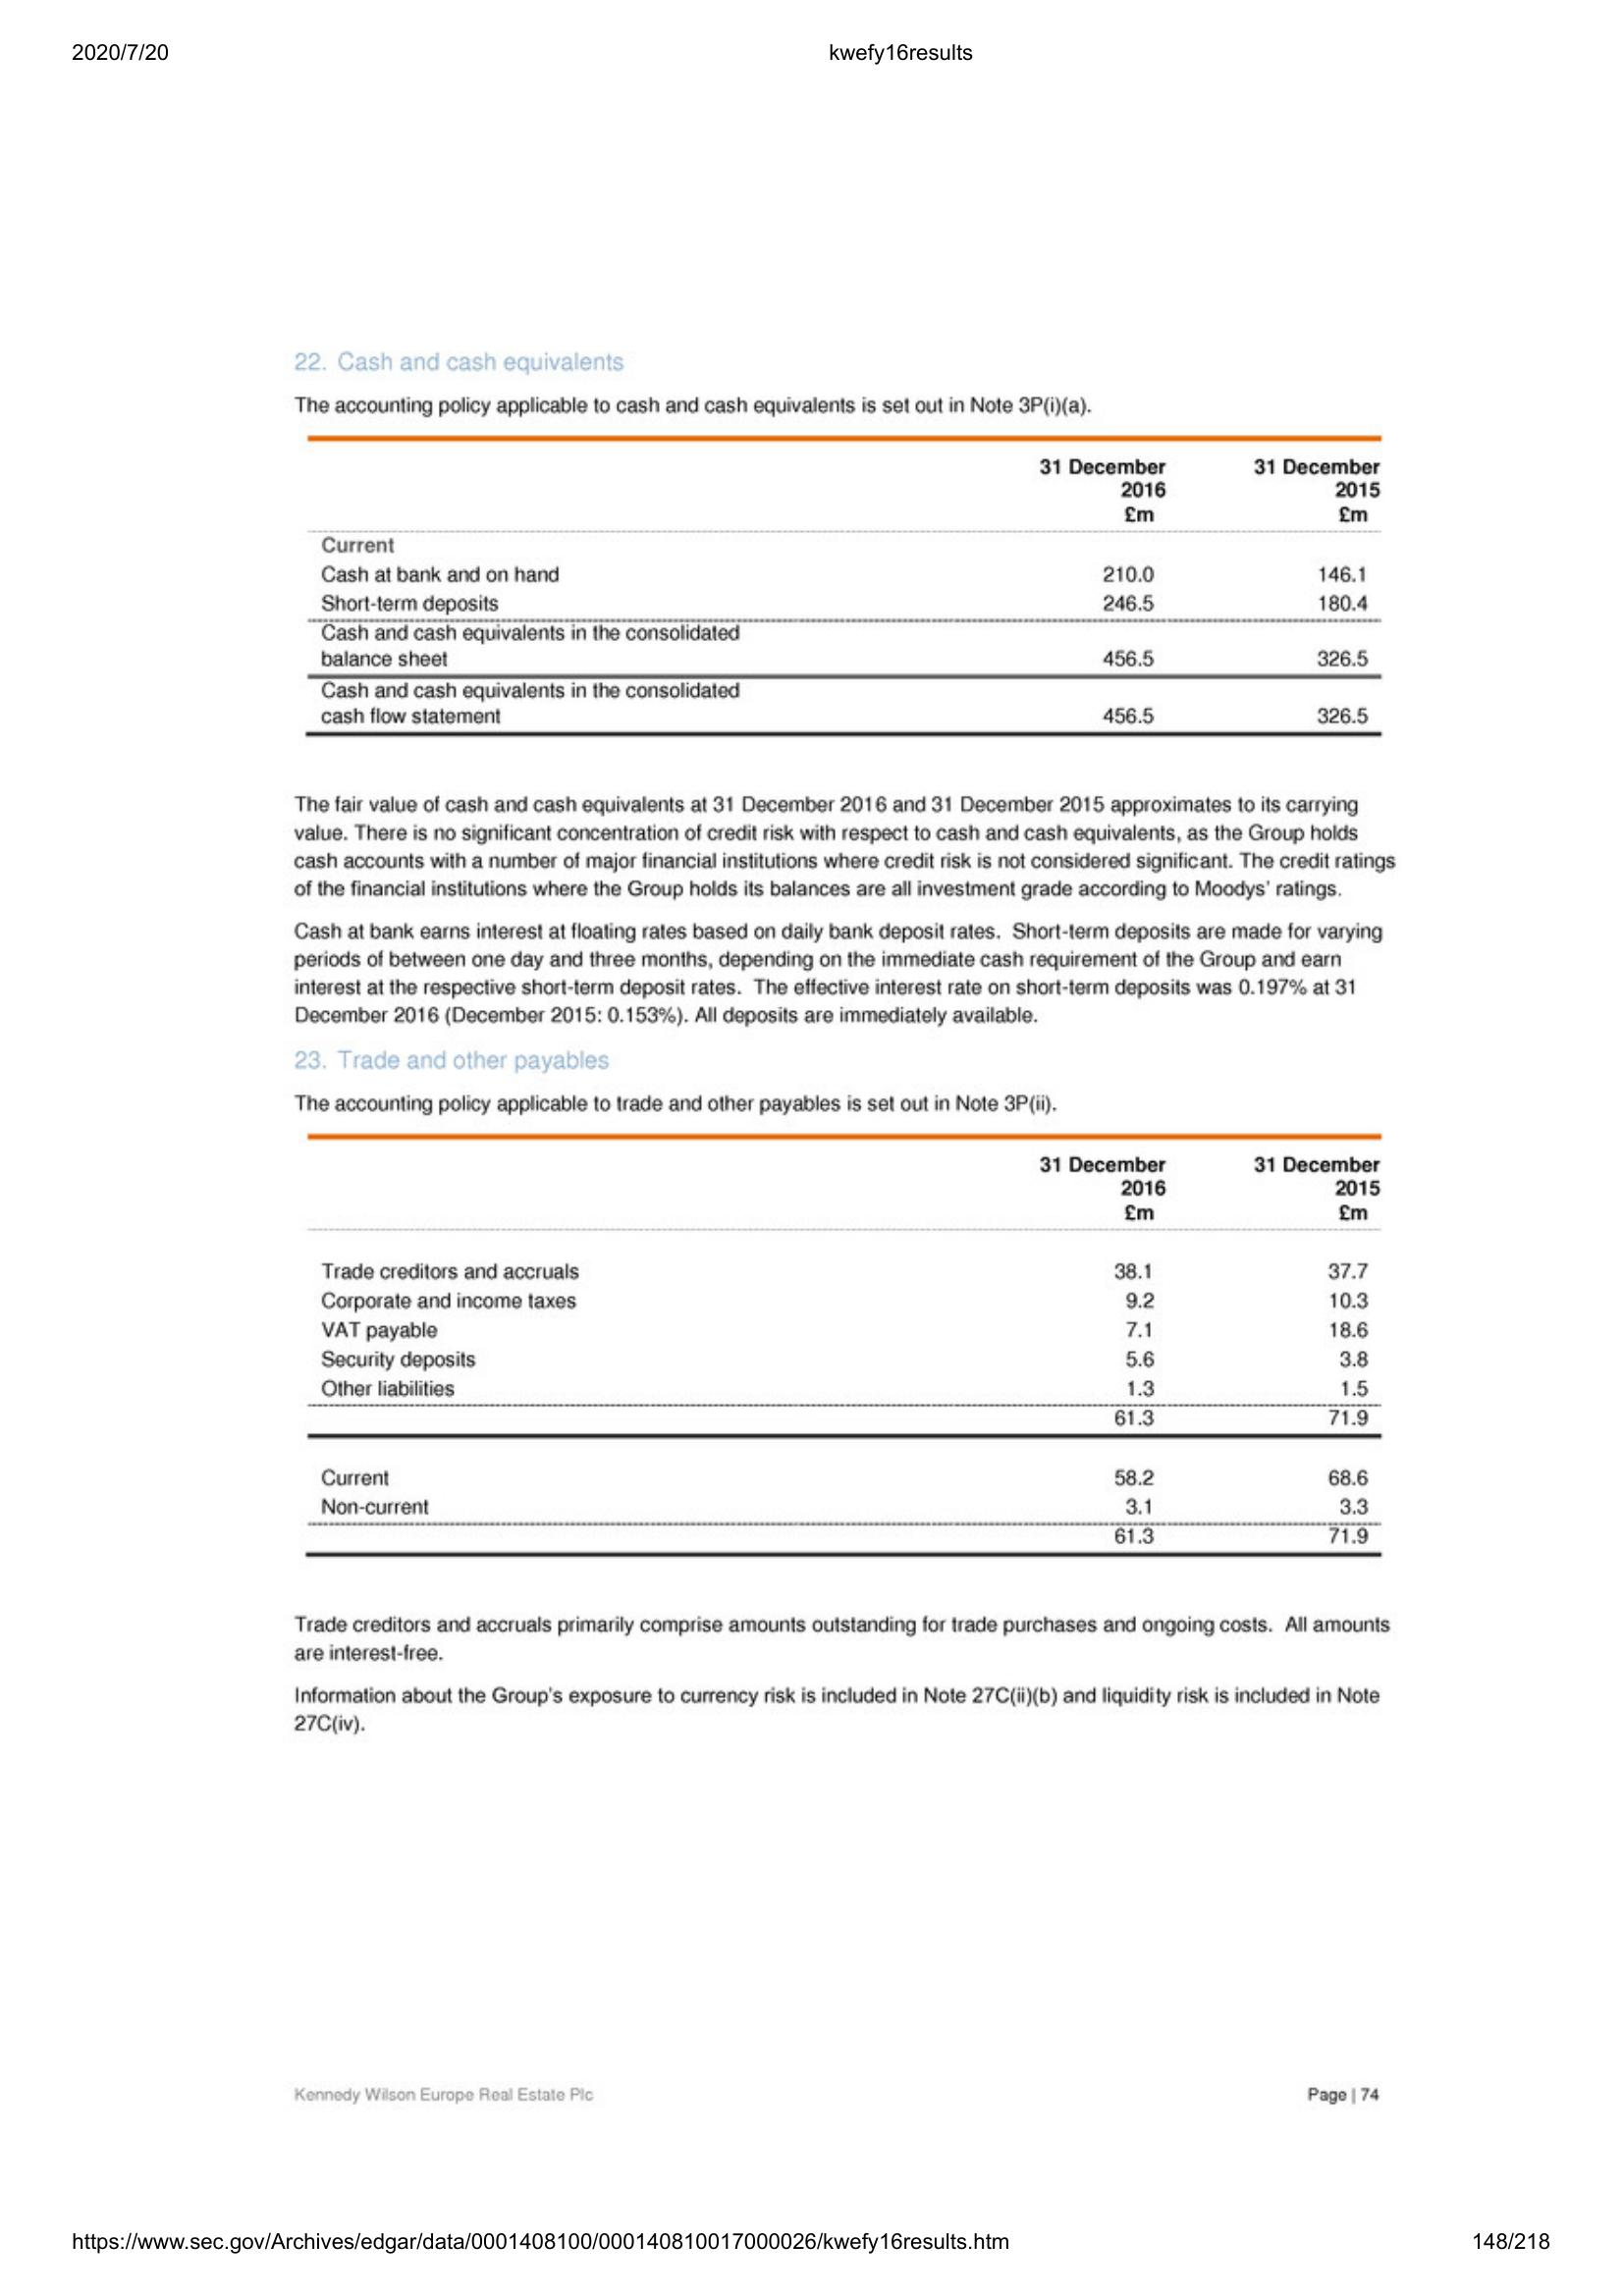table: (304, 1125, 1386, 1564), (306, 428, 1391, 750)
